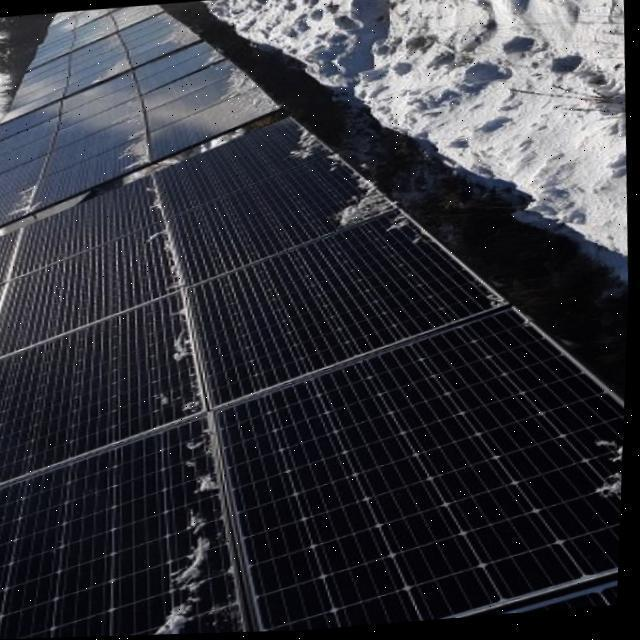Snow: (156, 323, 228, 496), (329, 163, 438, 254), (147, 507, 217, 636), (138, 179, 186, 294), (279, 118, 351, 183), (220, 62, 283, 125), (592, 438, 627, 518), (147, 10, 202, 51), (6, 181, 46, 219), (86, 59, 132, 87), (118, 138, 149, 168), (202, 48, 226, 71)
